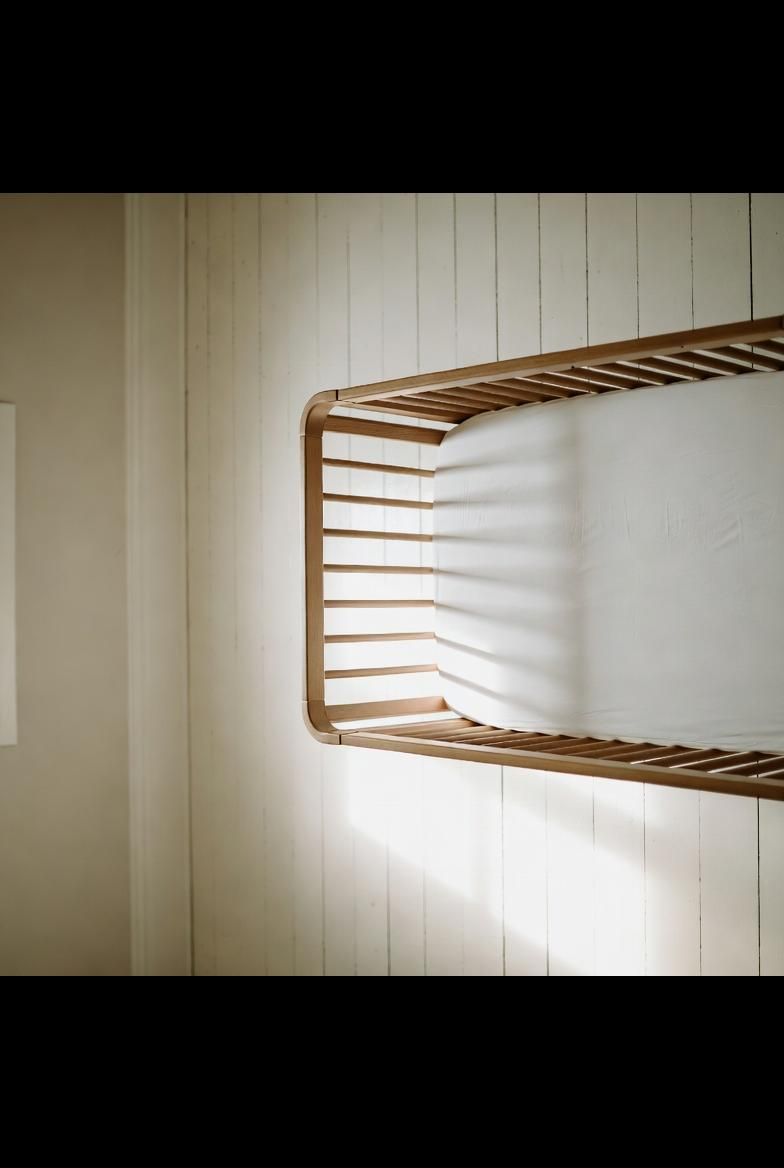crib: (301, 312, 784, 802)
